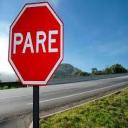Pare: (6, 2, 68, 90)
